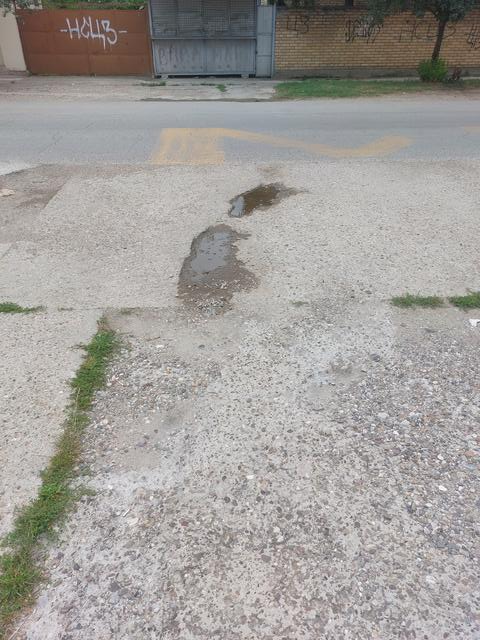pothole: (172, 217, 250, 295), (233, 173, 315, 229)
